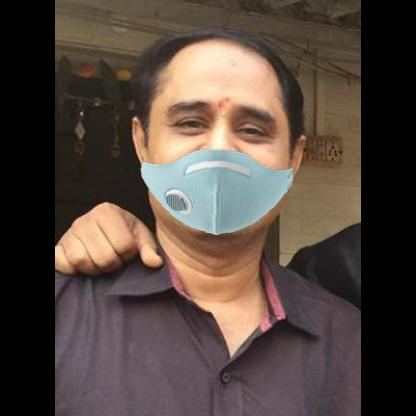FFP Mask: (135, 54, 292, 230)
